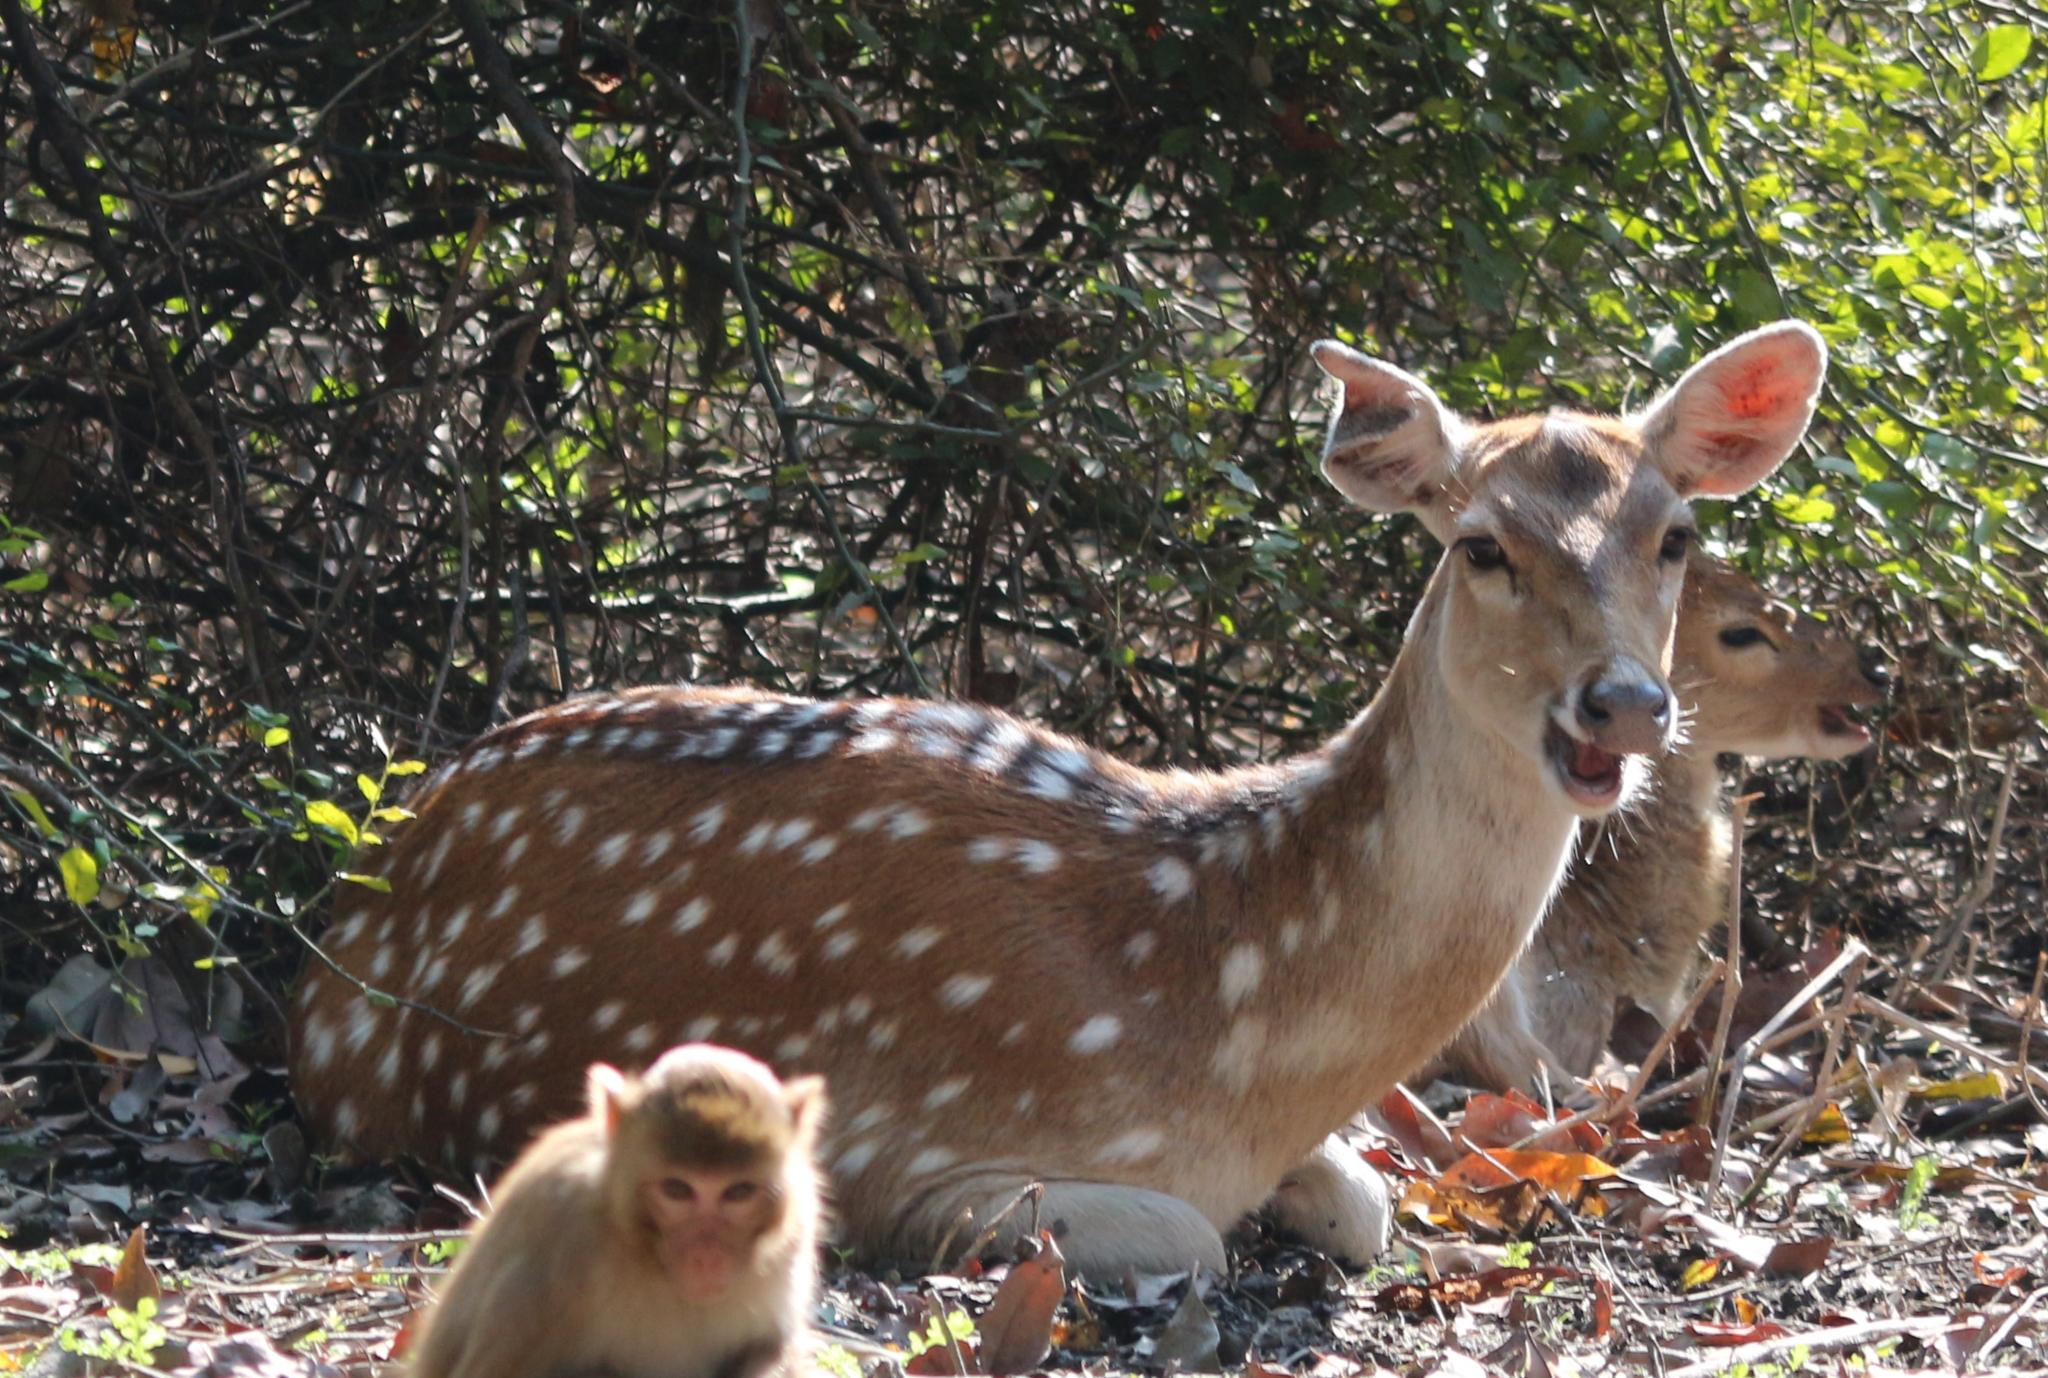Deer: (292, 321, 1824, 1280), (1444, 548, 1887, 1081)
